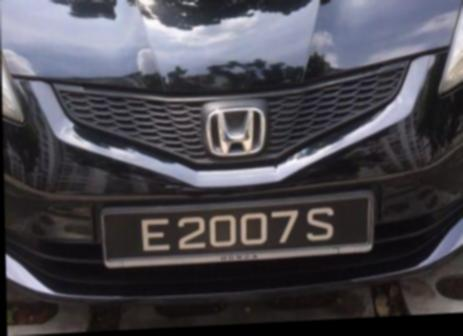License_Plate: (98, 194, 378, 270)
